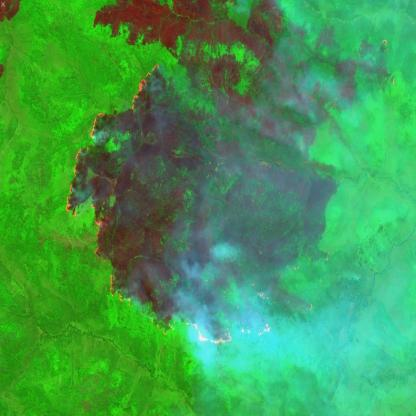fire: (64, 51, 272, 354)
